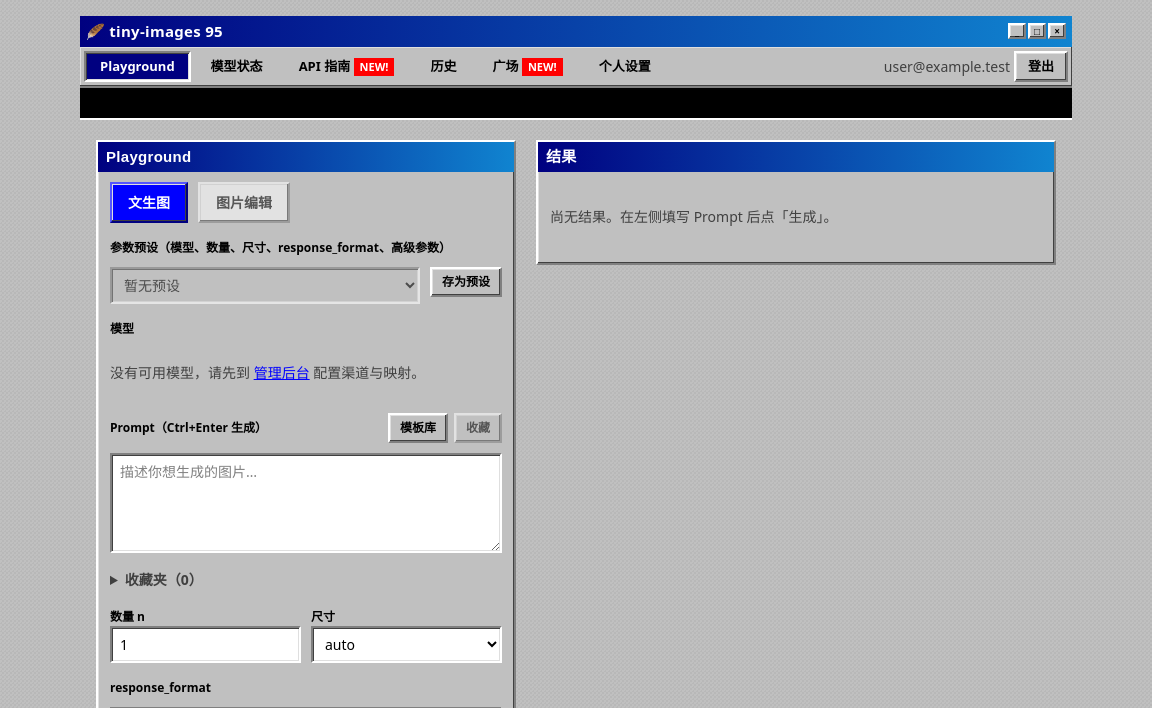
App model status route › places model status immediately after Playground and lets a user navigate there
The image size is (1152, 708).
Click the link "模型状态". click: click(237, 66)
box: [195, 50, 279, 82]
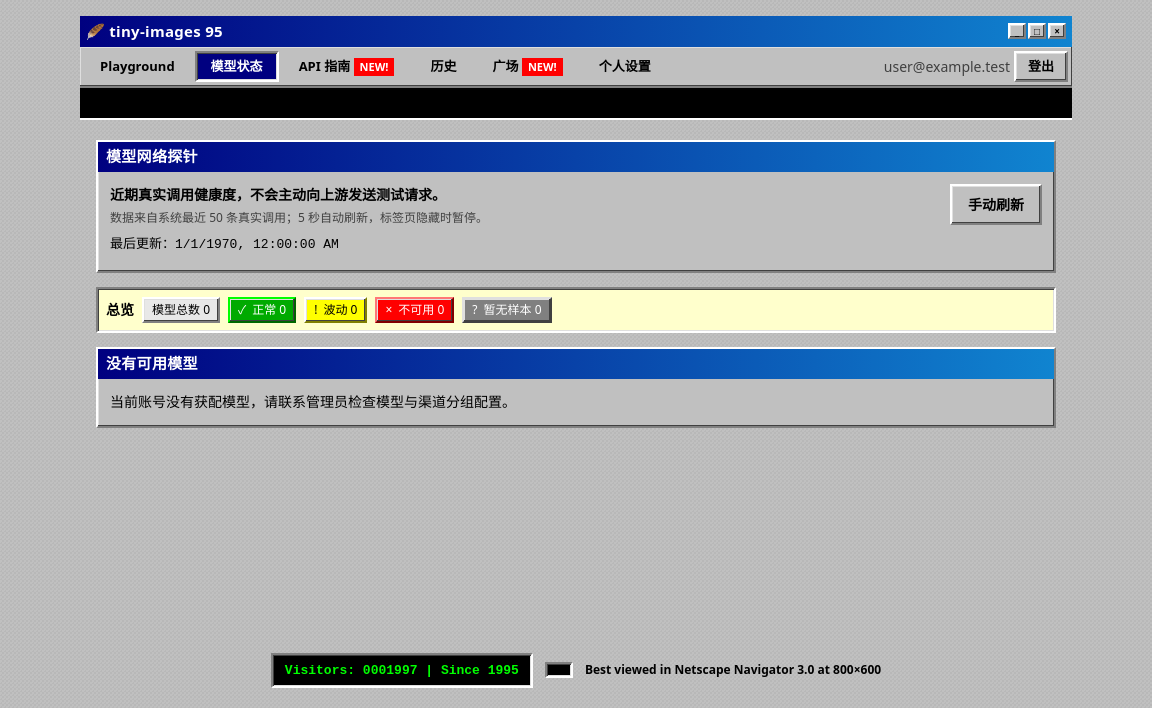
Result: the text "模型网络探针" is shown at [98, 142, 1054, 172]
